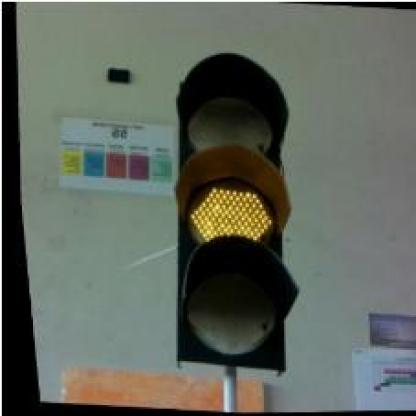yellow: (142, 47, 309, 371)
